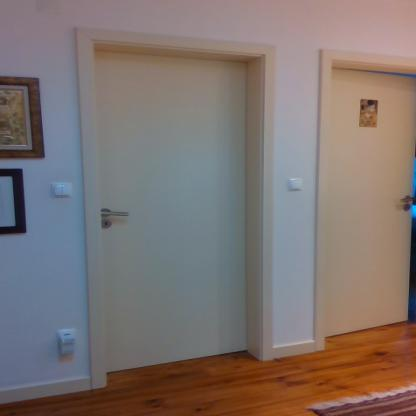door: (98, 47, 252, 354), (332, 67, 412, 322)
lever: (102, 210, 130, 220), (398, 196, 416, 203)
